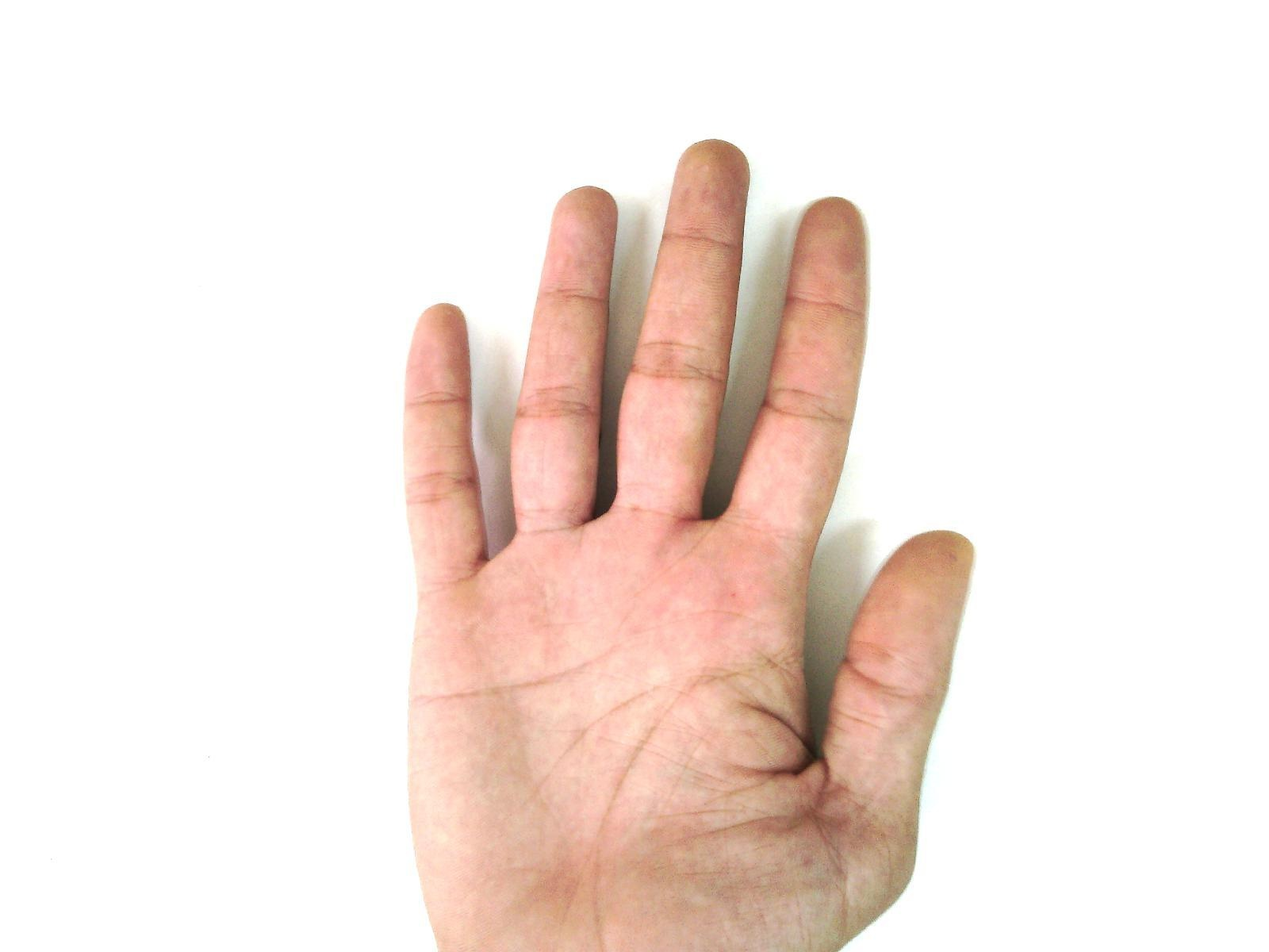open_palm: (397, 138, 978, 952)
